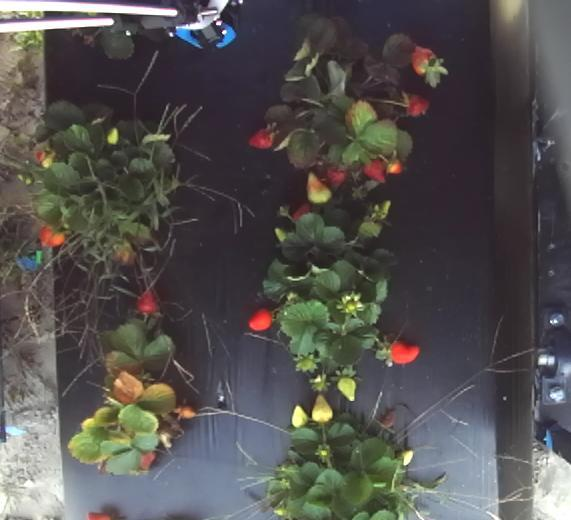mature: (410, 45, 448, 87), (388, 339, 420, 365), (248, 305, 275, 335), (247, 123, 276, 150), (365, 156, 387, 189), (135, 288, 160, 315), (289, 199, 315, 224), (38, 224, 65, 248), (404, 92, 429, 117), (324, 169, 350, 191)
